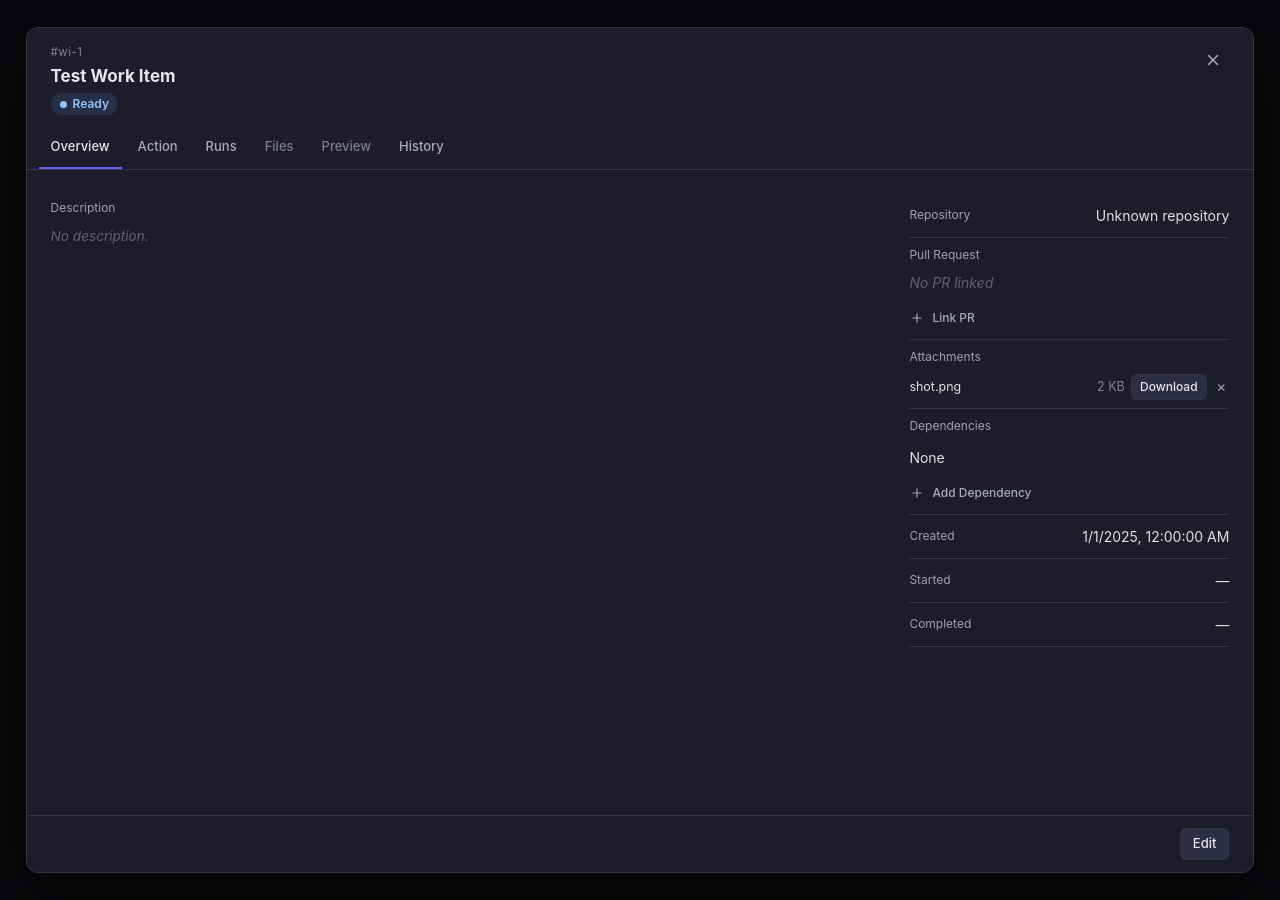
Test case: the overview's attachment list › removing an attachment deletes it and the list stops showing it
The image size is (1280, 900).
Click the button named "Remove attachment shot.png" at [1221, 387], box [1213, 379, 1229, 394]
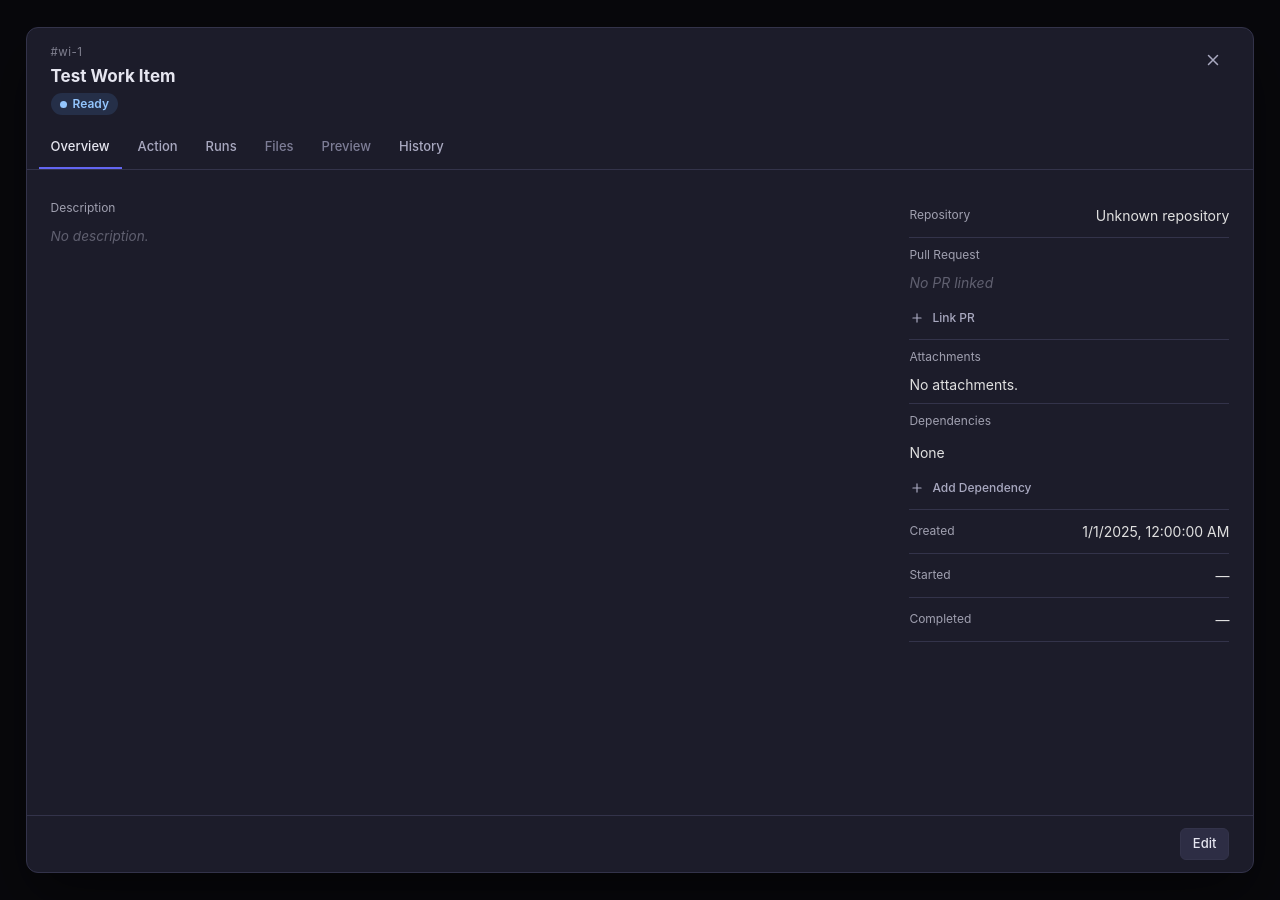
Now the text with id "wiv2-panel-overview" no longer shows "shot.png"
